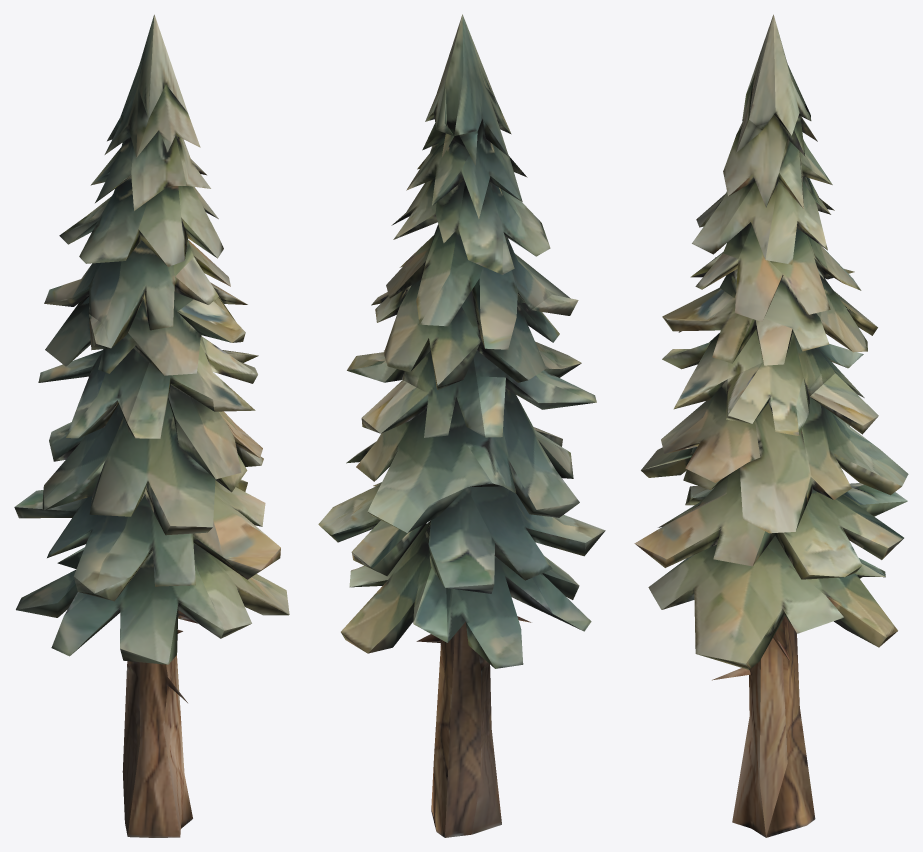
The model's file is Env_Tree_Pine.fbx.
3 renders of one model, left to right at view 1: azimuth 30°, elevation 25°; view 2: azimuth 150°, elevation 25°; view 3: azimuth 270°, elevation 25°, orthographic.
Visible parts, largest first — view 1: Env_Tree_Pine; view 2: Env_Tree_Pine; view 3: Env_Tree_Pine.
Part boxes in pixels (x1,y1,x2,y2): Env_Tree_Pine: (14,14,289,837); Env_Tree_Pine: (318,14,605,837); Env_Tree_Pine: (634,14,908,837).
Size of the model in its own units: 0.8418 by 2.81 by 0.864.
Materials: 1 (1 with a texture image).
